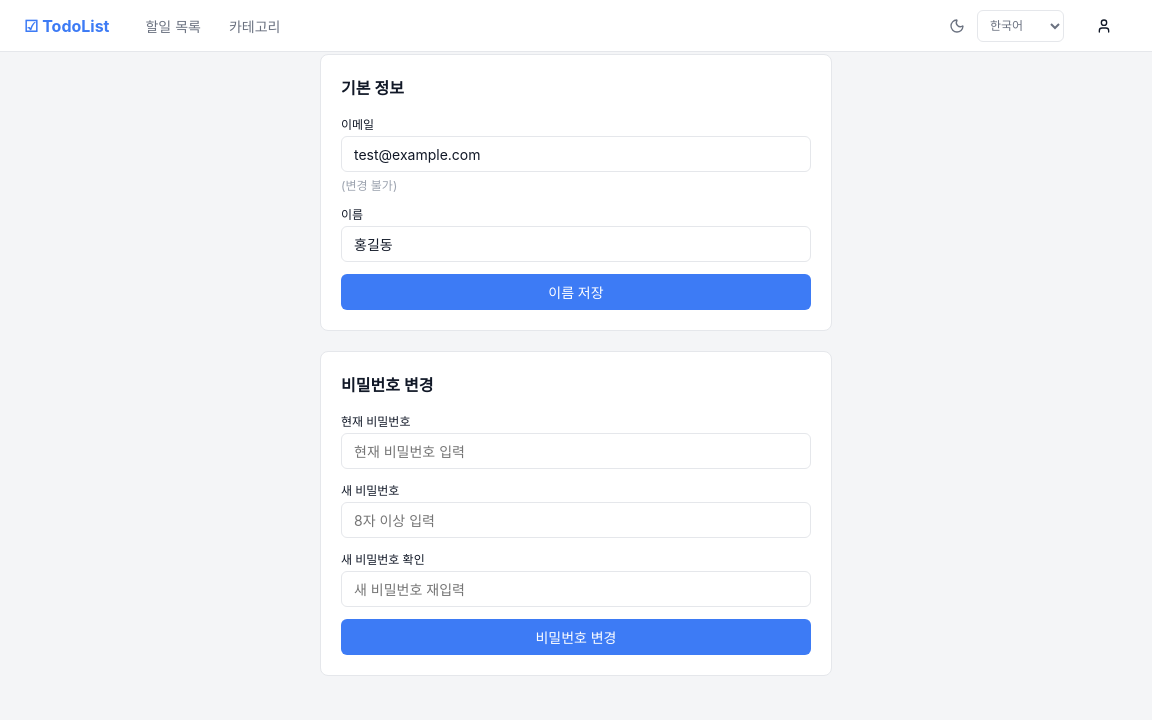
Test: ProfilePage 비밀번호 변경 유효성 › 현재 비밀번호 없이 제출 시 에러
(page scrolled)
Click the button "비밀번호 변경".
click(576, 637)  # box [341,619,811,655]
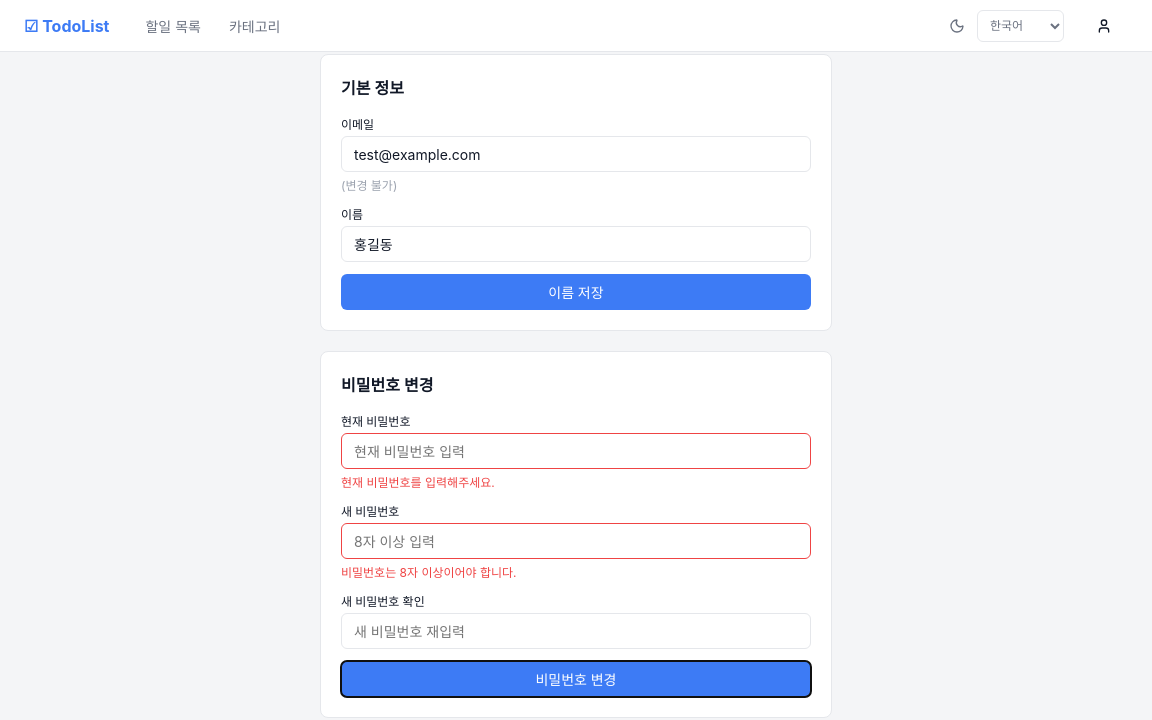
Check: the text "현재 비밀번호를 입력해주세요." is shown, box [341,475,495,490]
